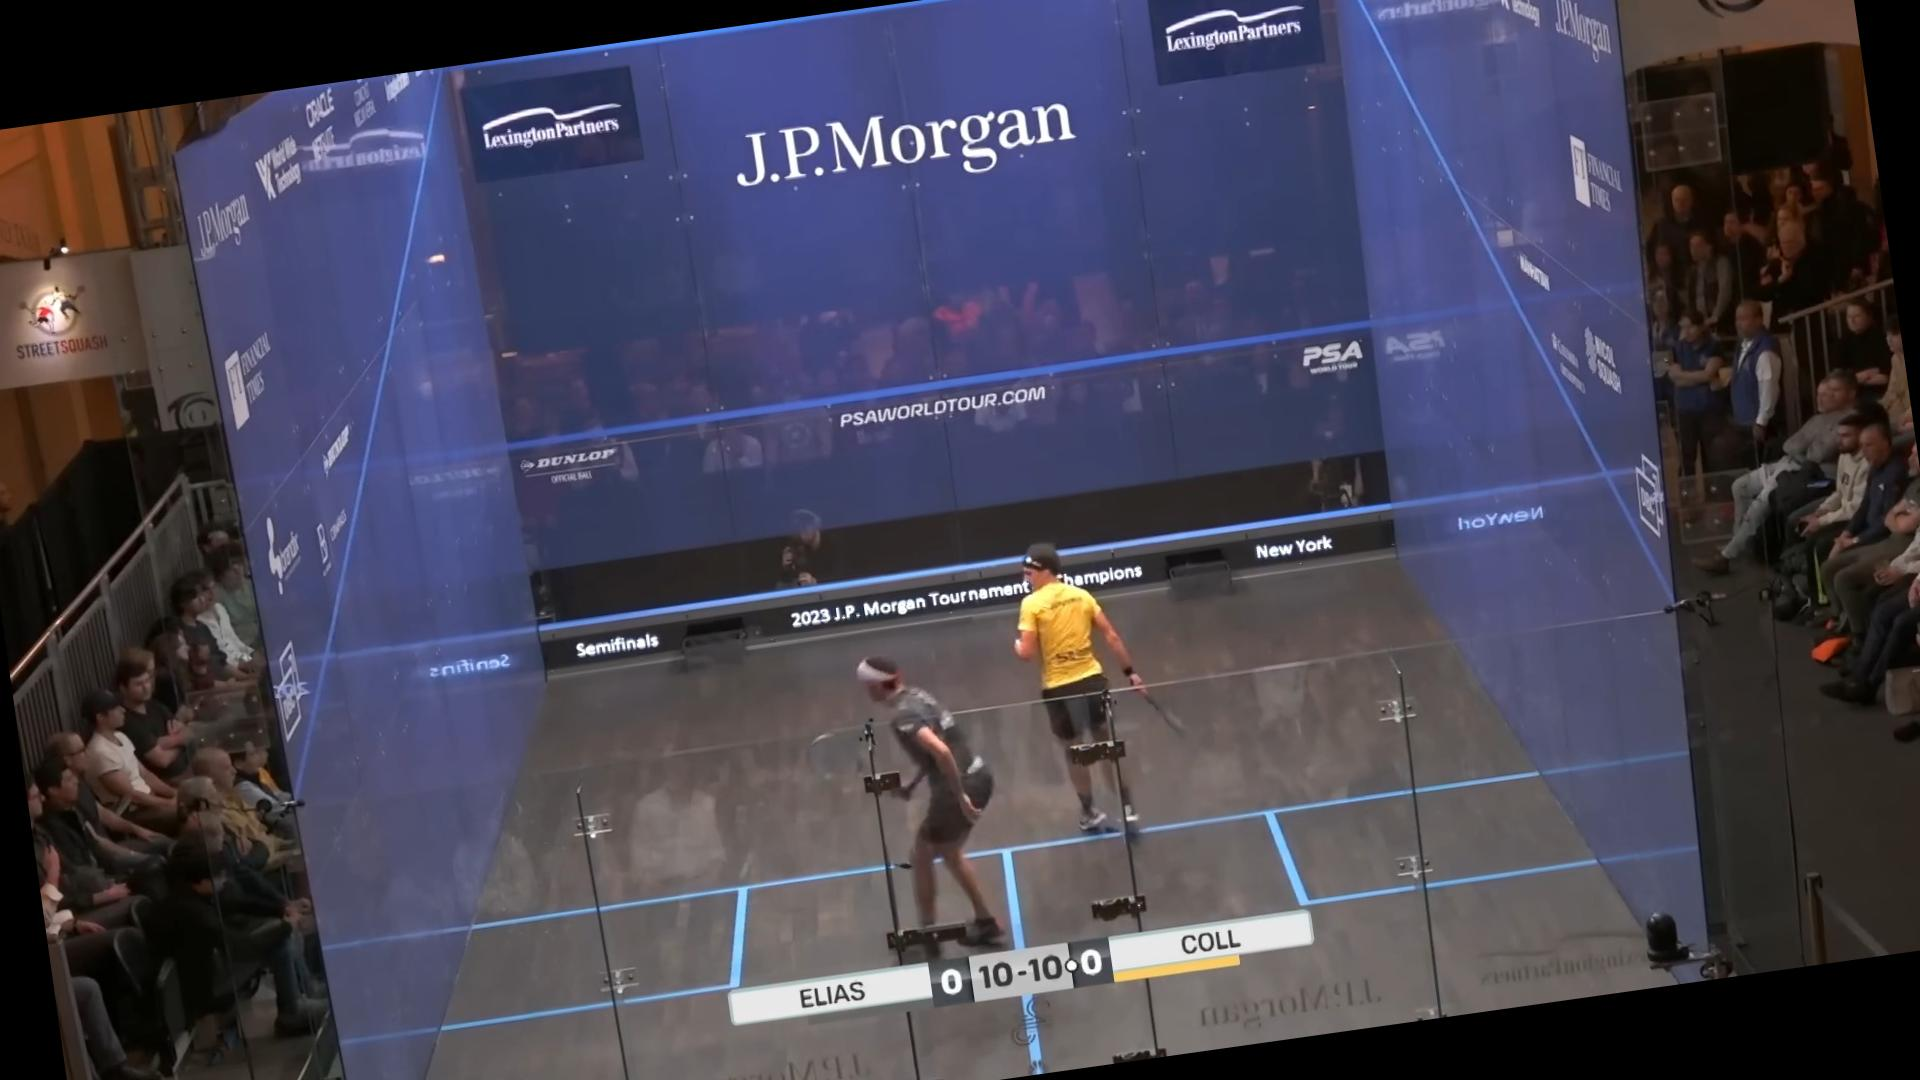Racket: (790, 712, 894, 807), (1147, 686, 1195, 742)
